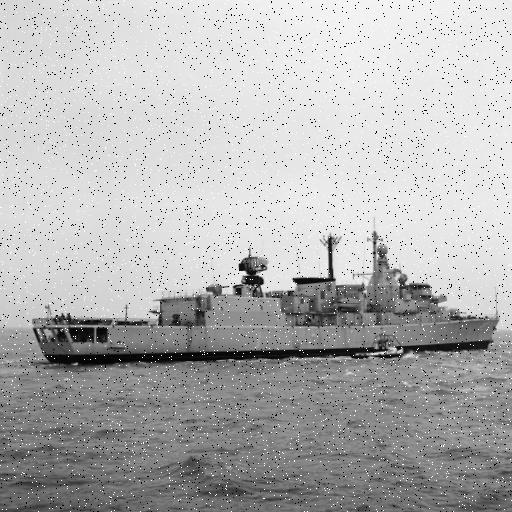Fragata: (31, 218, 506, 370)
